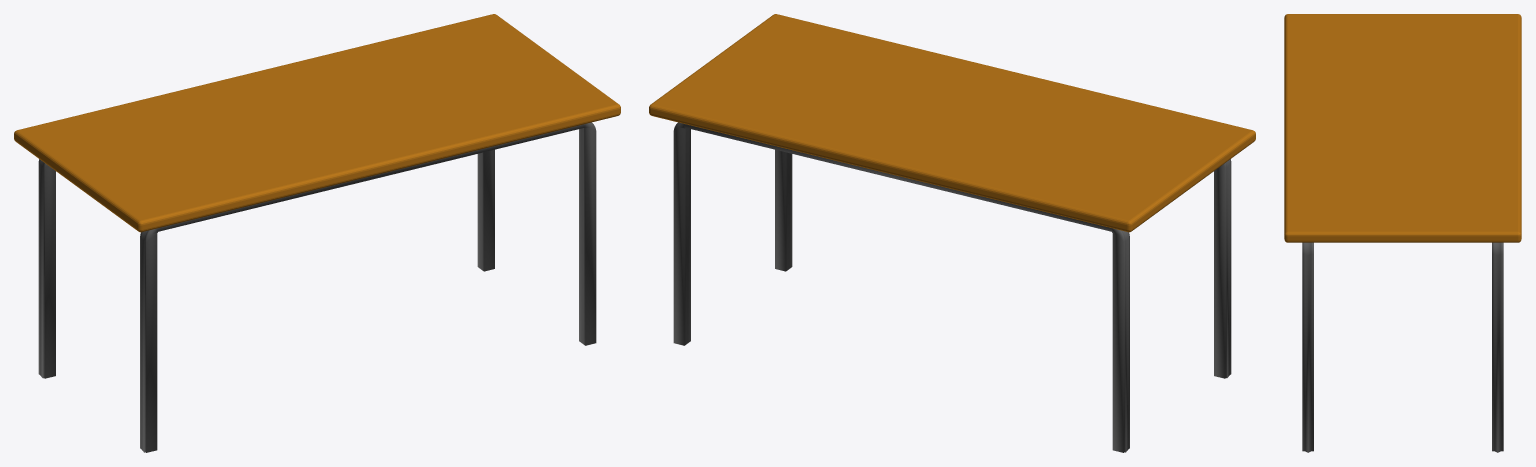
File: double_desk.glb
The picture shows the model from 3 angles, left to right: view 1: azimuth 30°, elevation 25°; view 2: azimuth 150°, elevation 25°; view 3: azimuth 270°, elevation 25°; orthographic projection. The views are drawn at different scales.
Parts seen in each view (by area): view 1: surface, front_leg, back_leg; view 2: surface, back_leg, front_leg; view 3: surface, back_leg, front_leg.
Boxes of the visible parts, box(x1,y1,x2,y2) form: surface: box(14, 14, 620, 232); front_leg: box(140, 122, 596, 452); back_leg: box(38, 149, 494, 378); surface: box(649, 14, 1255, 232); back_leg: box(673, 122, 1129, 452); front_leg: box(775, 149, 1231, 378); surface: box(1284, 14, 1521, 242); back_leg: box(1492, 242, 1503, 452); front_leg: box(1302, 242, 1313, 452).
Bounding box in the file's own units: 4.4 × 2.12 × 2.
